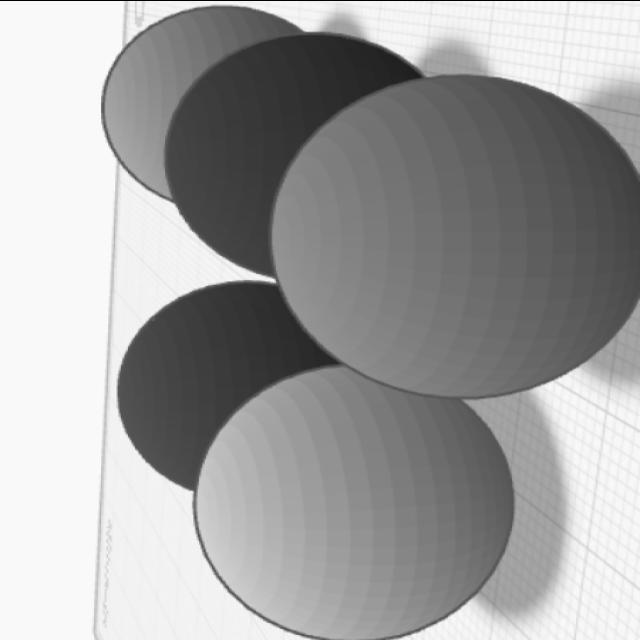sphere: (261, 71, 640, 402), (190, 361, 516, 640)
